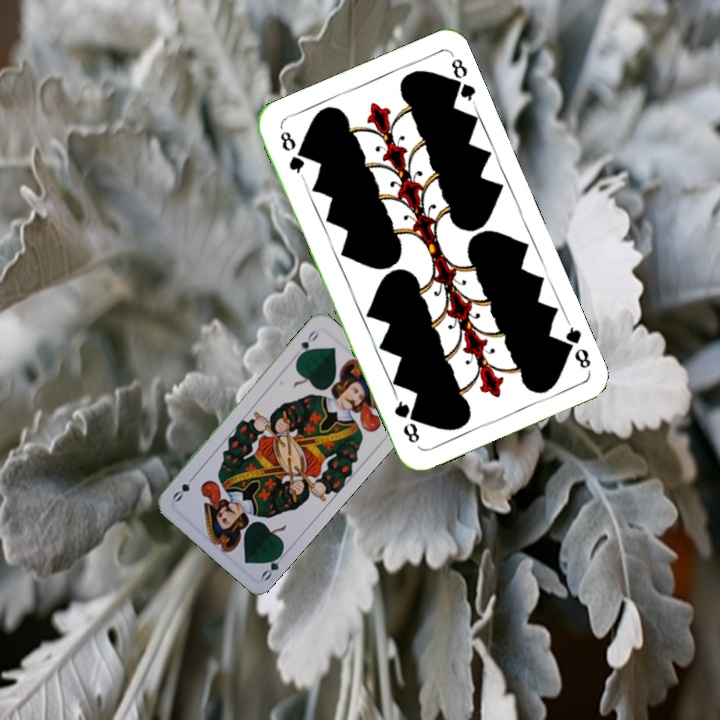G8: (556, 317, 594, 373), (276, 127, 307, 181)
GO: (257, 546, 289, 583), (293, 326, 322, 361)
